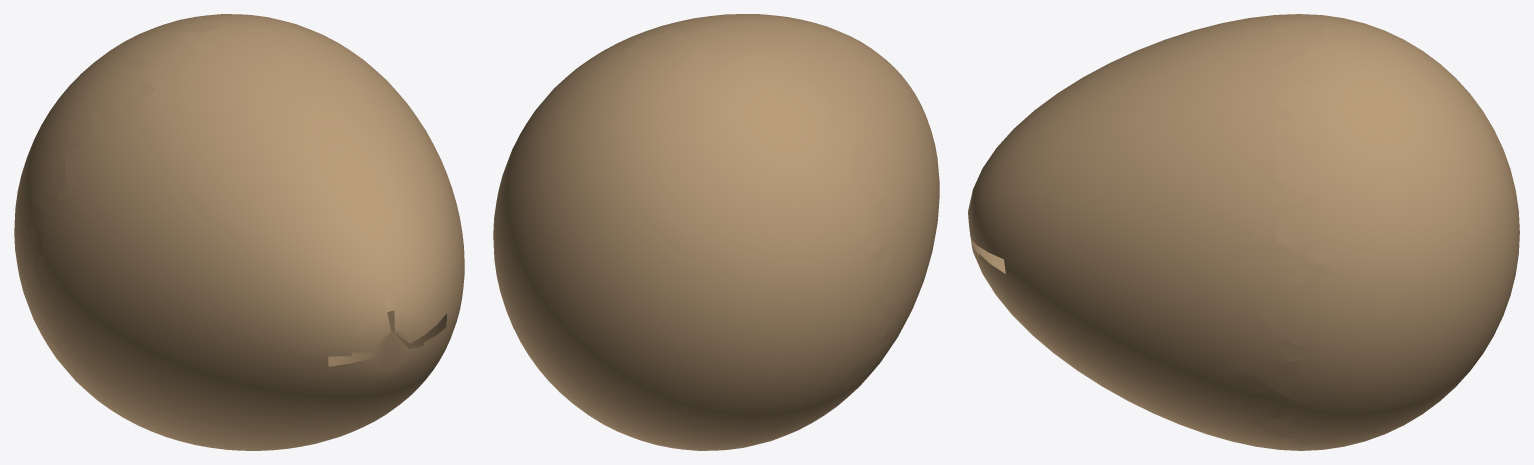
Rendered from ovos.fbx.
3 renders of one model, left to right at view 1: azimuth 30°, elevation 25°; view 2: azimuth 150°, elevation 25°; view 3: azimuth 270°, elevation 25°, orthographic. The views are drawn at different scales.
Visible parts, largest first — view 1: egg.002; view 2: egg.002; view 3: egg.002.
Boxes of the visible parts, x1=… form: egg.002: x1=14, y1=14, x2=464, y2=450; egg.002: x1=493, y1=14, x2=939, y2=450; egg.002: x1=968, y1=14, x2=1519, y2=450.
Bounding box in the file's own units: 200 × 200 × 252.
